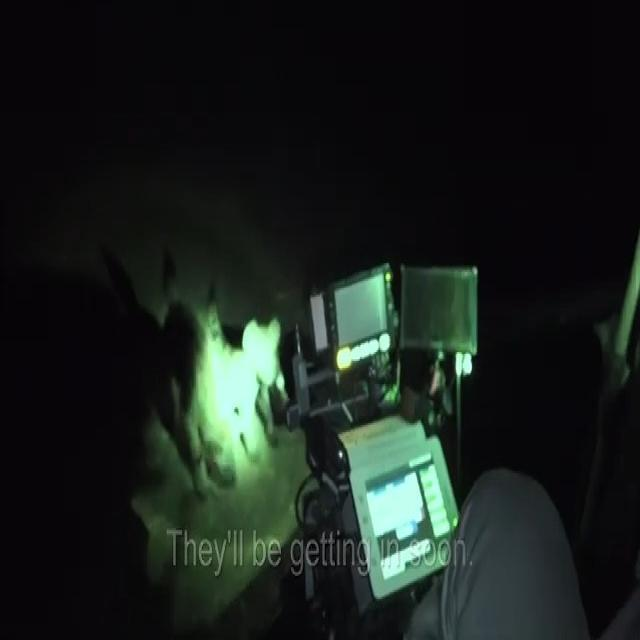animal: (144, 264, 306, 518)
device: (308, 242, 539, 640)
